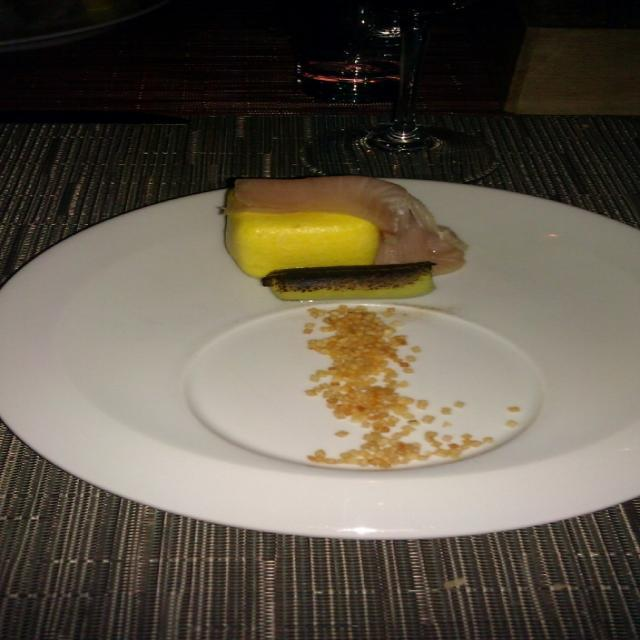ceramic plate: (3, 176, 640, 536)
